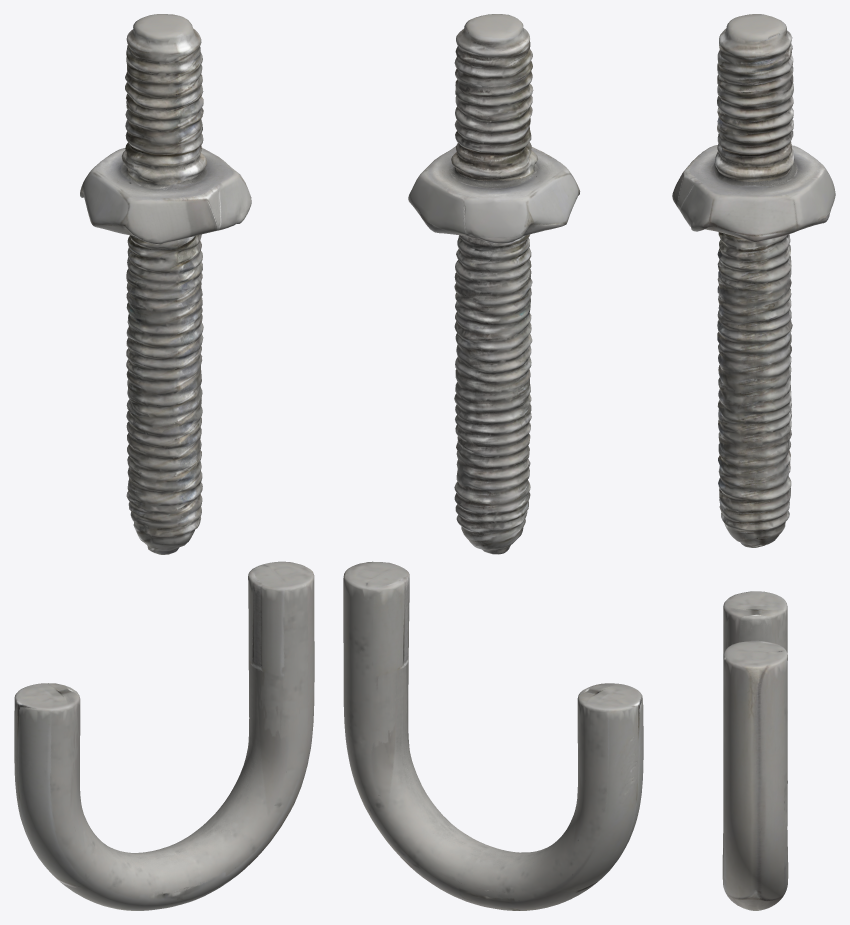
The picture shows the model from 3 angles, left to right: view 1: azimuth 30°, elevation 25°; view 2: azimuth 150°, elevation 25°; view 3: azimuth 270°, elevation 25°; orthographic projection.
Size of the model in its own units: 0.6953 by 2.01 by 0.3414.
1 material, 1 textured.
